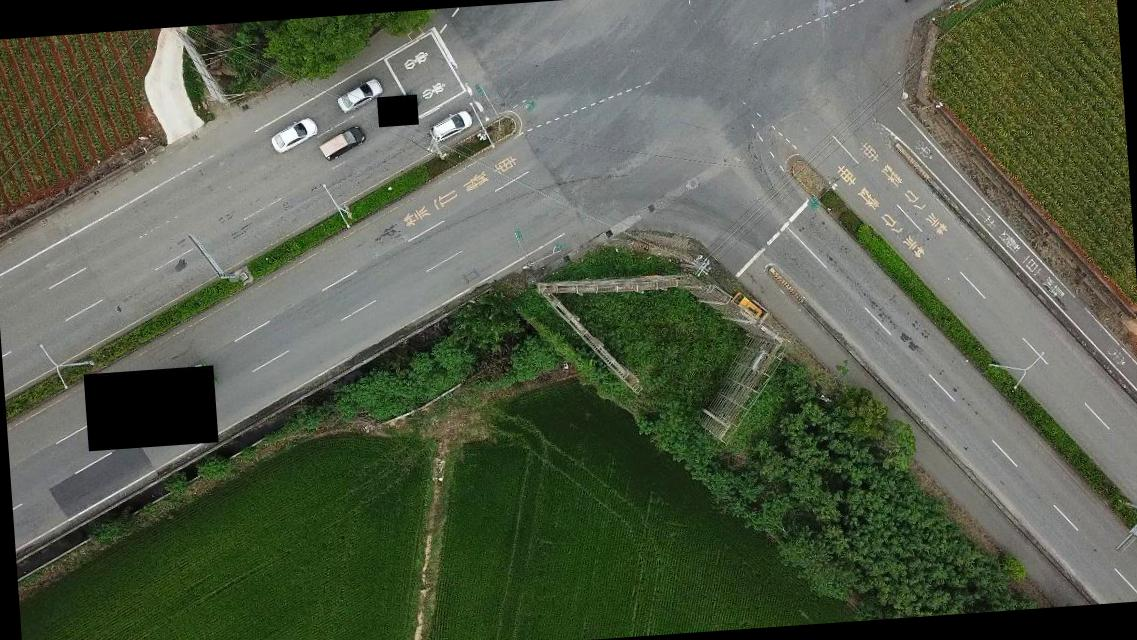vehicle: (268, 112, 317, 152), (318, 124, 366, 162), (335, 80, 381, 114), (428, 112, 472, 140), (733, 290, 764, 322)
